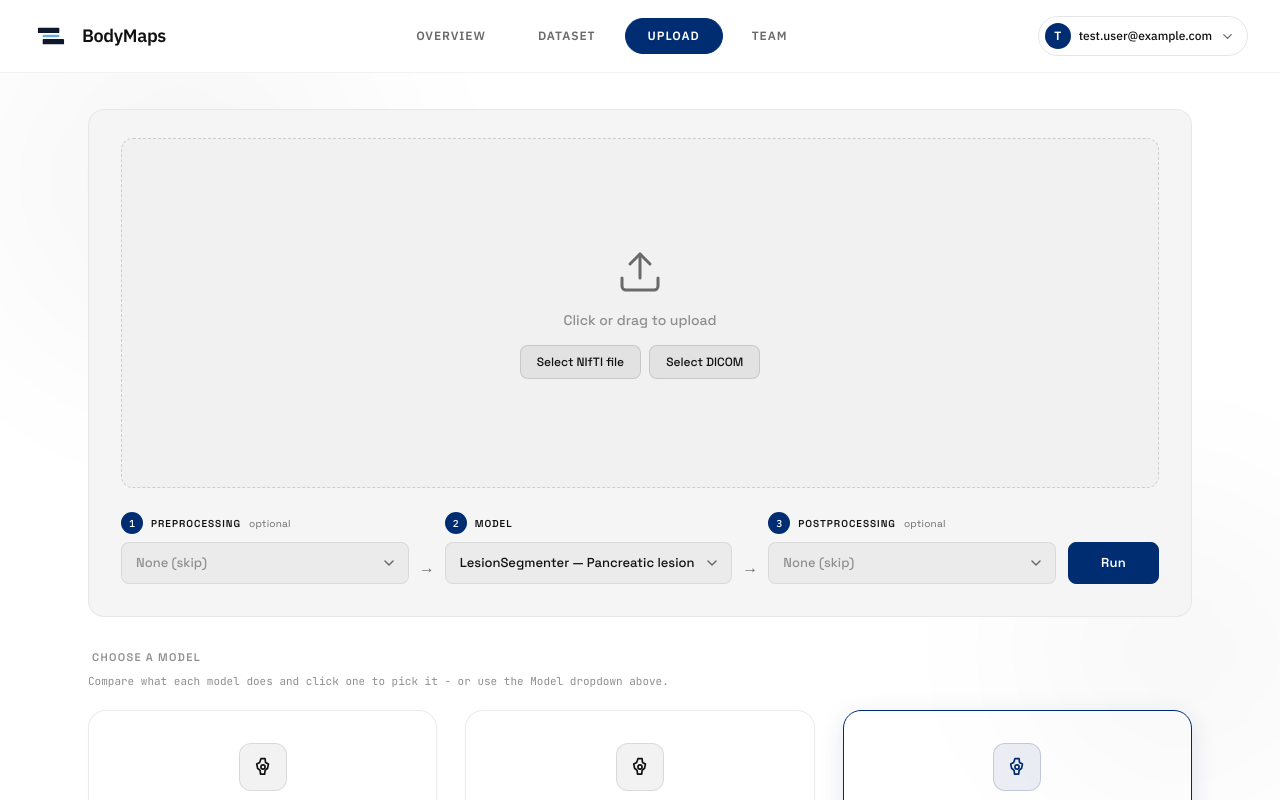
Scenario: model access › keeps locked models visible with an upgrade marker rather than hiding them
Click the button "LesionSegmenter — Pancreatic lesion": (589, 563) [445,542,732,584]
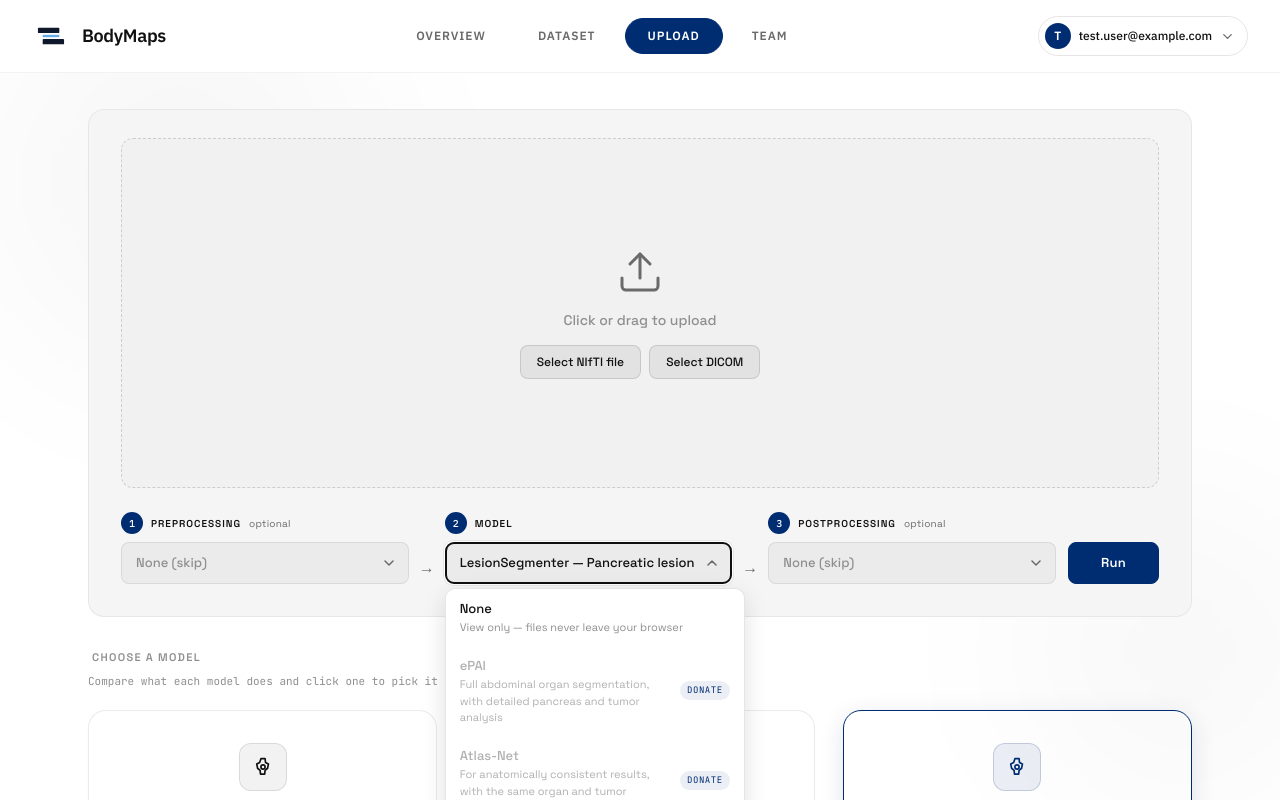
Expected: the text "ePAI" is shown, [460,656,486,674]
Expected: the 1st text "Donate" is shown, [680,681,730,700]
